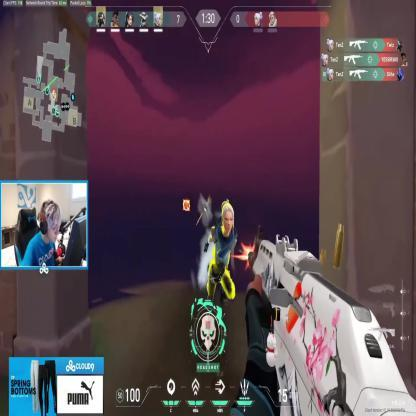enemy: (206, 202, 237, 320)
enemy_head: (222, 202, 234, 236)
